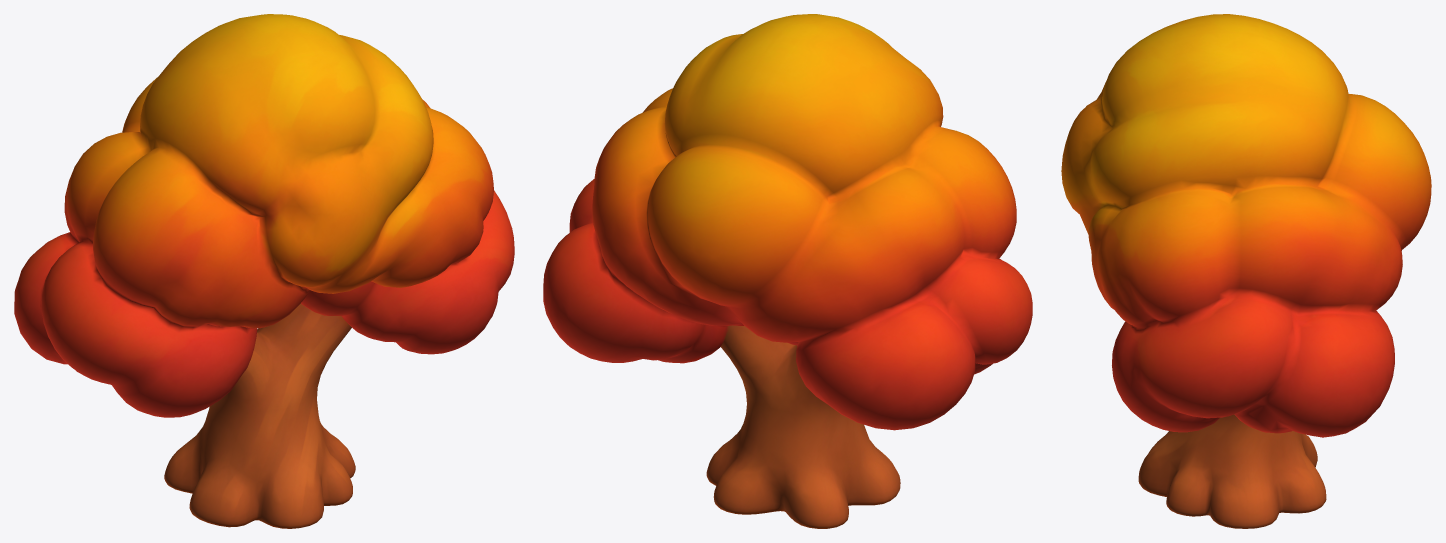
The model's file is maple-tree.glb.
3 renders of one model, left to right at view 1: azimuth 30°, elevation 25°; view 2: azimuth 150°, elevation 25°; view 3: azimuth 270°, elevation 25°, orthographic. The views are drawn at different scales.
Visible parts, largest first — view 1: b33cb0bf_587f_49fa_ab03_068a1cc5f036; view 2: b33cb0bf_587f_49fa_ab03_068a1cc5f036; view 3: b33cb0bf_587f_49fa_ab03_068a1cc5f036.
Part boxes in pixels (x1,y1,x2,y2): b33cb0bf_587f_49fa_ab03_068a1cc5f036: (14, 14, 514, 528); b33cb0bf_587f_49fa_ab03_068a1cc5f036: (543, 14, 1032, 528); b33cb0bf_587f_49fa_ab03_068a1cc5f036: (1061, 14, 1431, 528).
Bounding box in the file's own units: 0.9985 × 0.9995 × 0.7173.
1 material, 1 textured.
